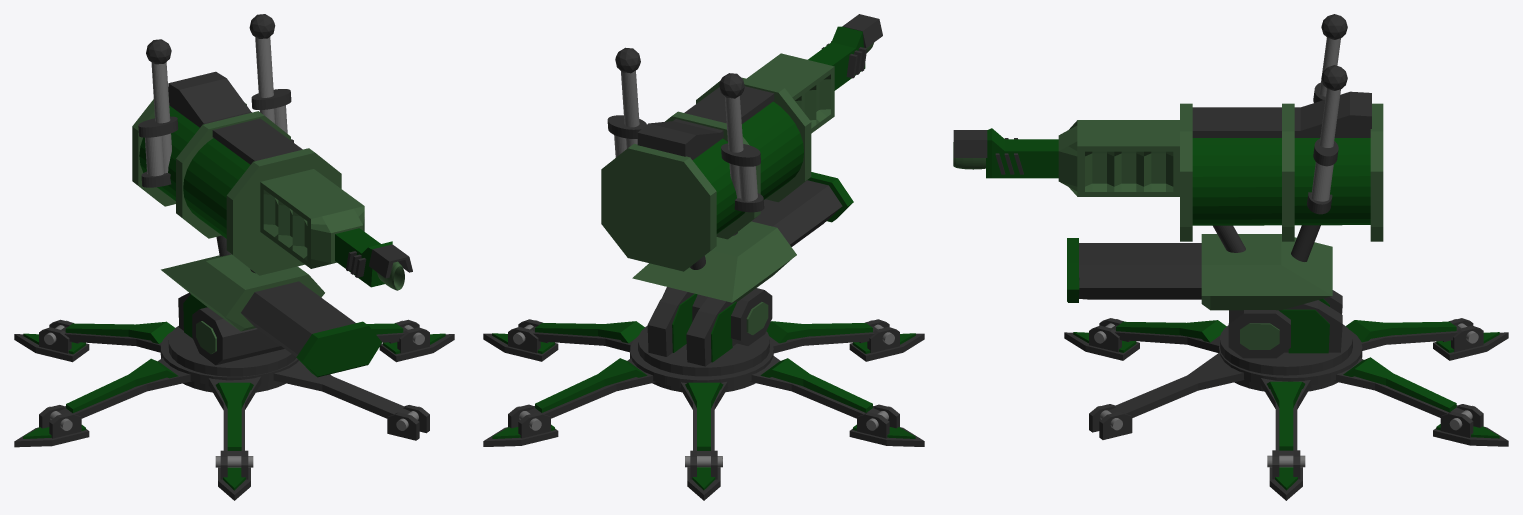
Rendered from Turm 16.fbx.
3 views of the same model, side by side, from view 1: azimuth 30°, elevation 25°; view 2: azimuth 150°, elevation 25°; view 3: azimuth 270°, elevation 25° (orthographic).
Parts seen in each view (by area): view 1: Cube, Cube.001; view 2: Cube, Cube.001; view 3: Cube, Cube.001.
Boxes of the visible parts, bbox=[...] form: Cube: bbox=[132, 14, 412, 392]; Cube.001: bbox=[14, 319, 454, 500]; Cube: bbox=[601, 14, 882, 392]; Cube.001: bbox=[483, 319, 924, 500]; Cube: bbox=[953, 14, 1383, 391]; Cube.001: bbox=[1064, 318, 1508, 500].
Size of the model in its own units: 501 by 379 by 542.
